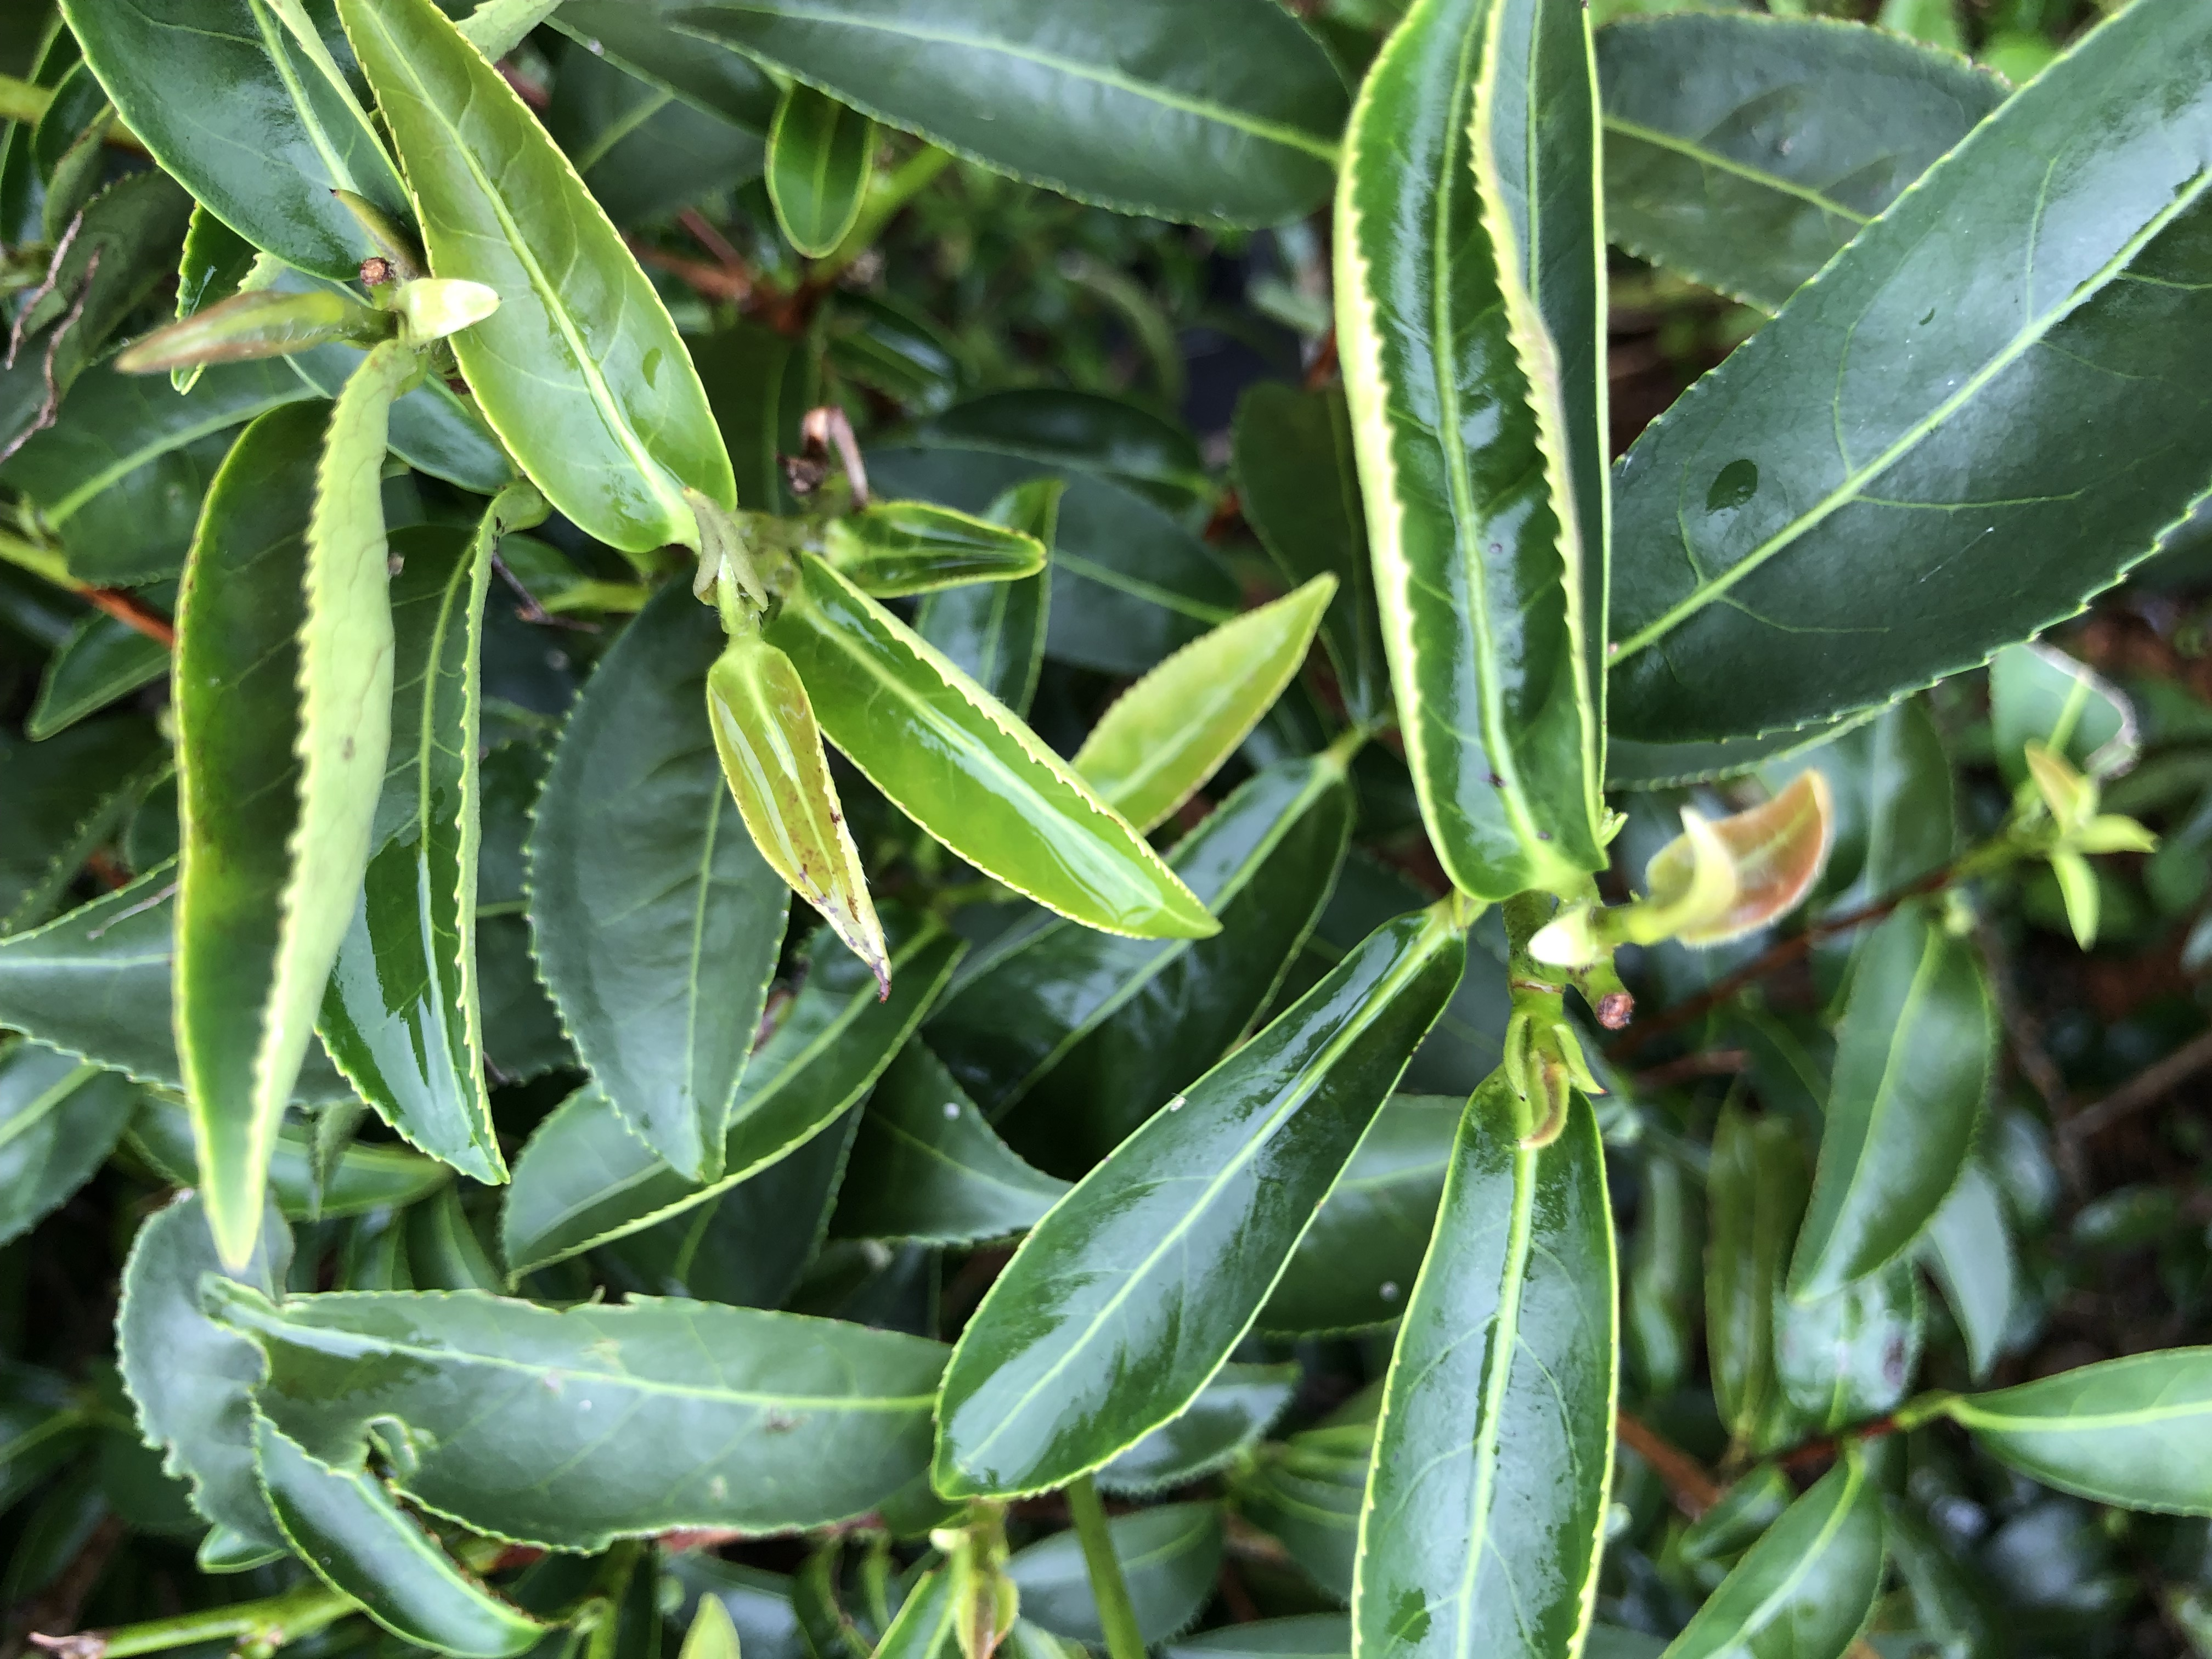formosa: (695, 641, 894, 972)
thrips: (1298, 7, 1625, 884)
